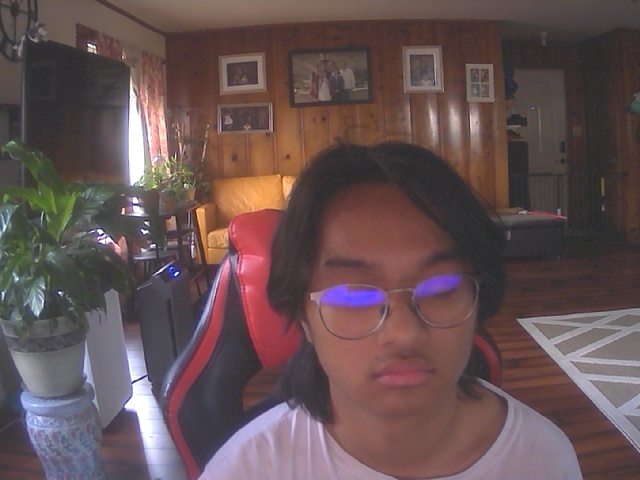neutral: (295, 142, 497, 423)
